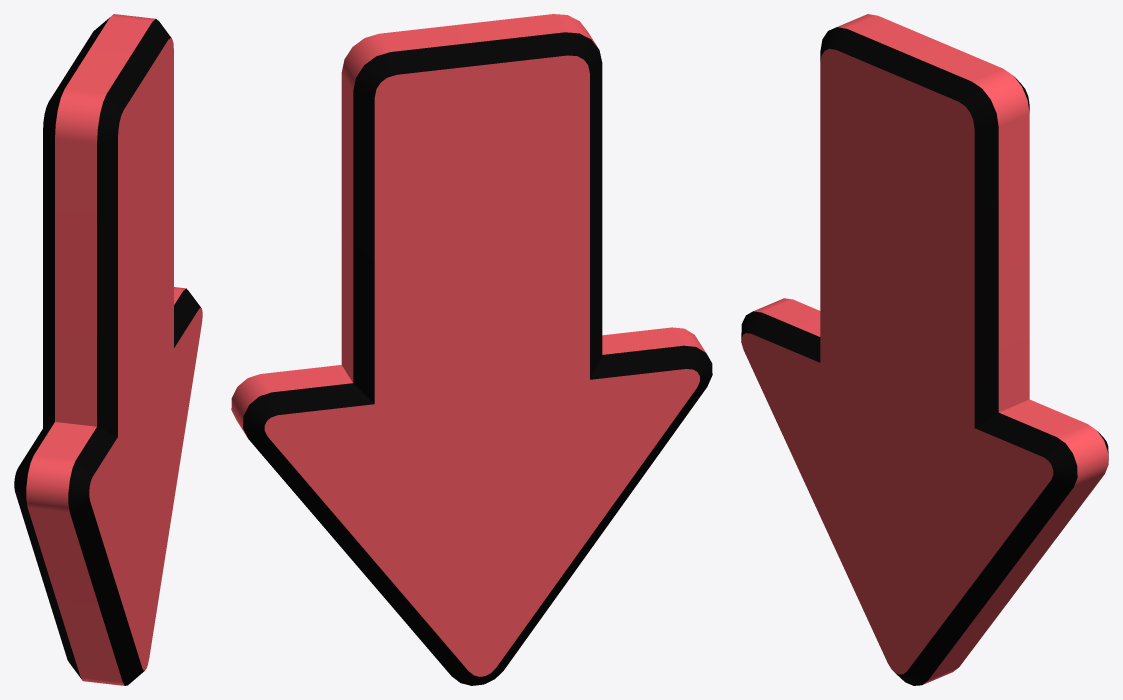
Rendered from Arrow.fbx.
3 views of the same model, side by side, from view 1: azimuth 30°, elevation 25°; view 2: azimuth 150°, elevation 25°; view 3: azimuth 270°, elevation 25° (orthographic). The views are drawn at different scales.
Parts seen in each view (by area): view 1: Arrow; view 2: Arrow; view 3: Arrow.
Boxes of the visible parts, box(x1,y1,x2,y2) form: Arrow: box(14, 14, 202, 685); Arrow: box(231, 14, 712, 685); Arrow: box(741, 14, 1108, 685).
Size of the model in its own units: 0.3166 by 0.5984 by 0.3166.
1 material, 1 textured.
